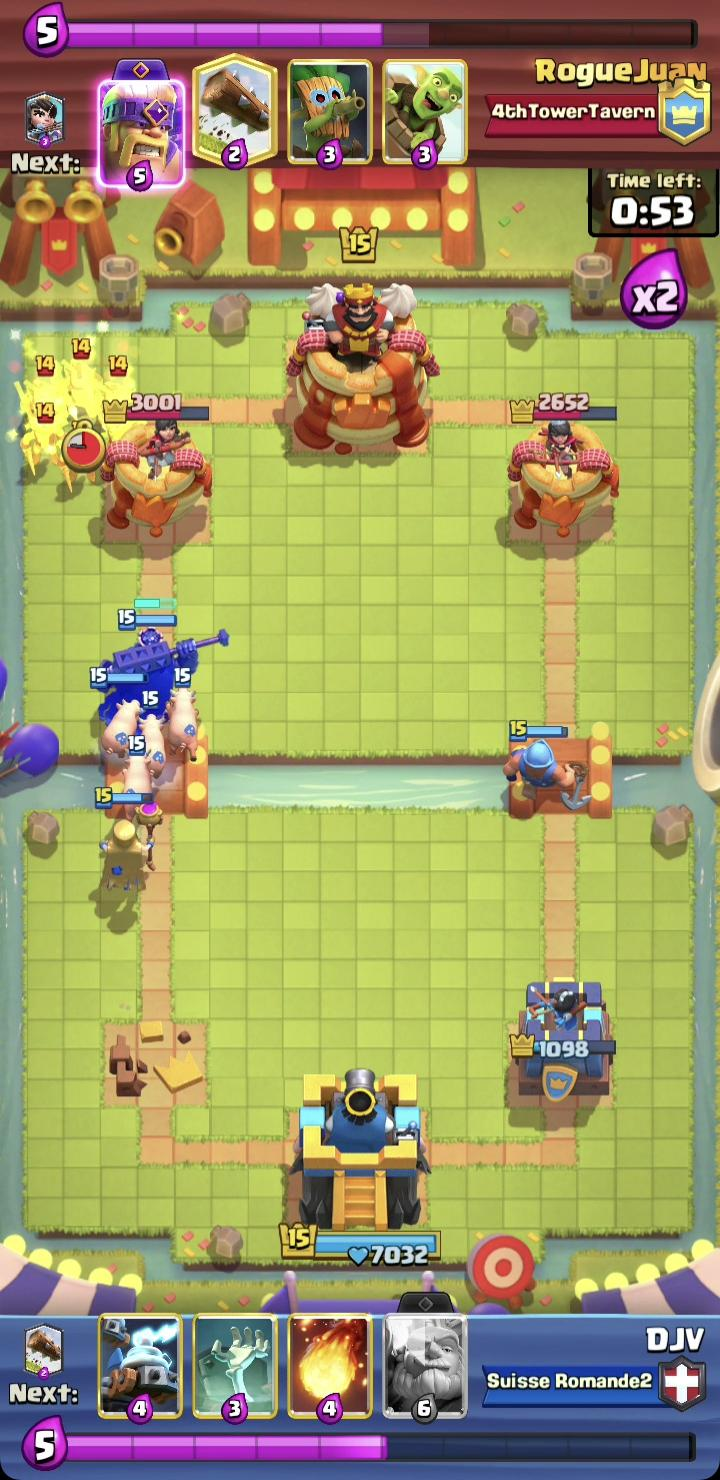ally_cursedhog: (89, 666, 149, 759), (161, 668, 200, 763), (131, 689, 169, 779), (121, 734, 154, 816)
ally_fisherman: (503, 719, 591, 810)
ally_motherwitch: (89, 784, 162, 892)
ally_skeletonking: (94, 596, 227, 727)
enemy_goblin: (19, 401, 65, 479), (60, 414, 97, 492)
enemy_spear_goblin: (12, 354, 66, 430), (56, 337, 105, 417), (95, 354, 138, 425)
